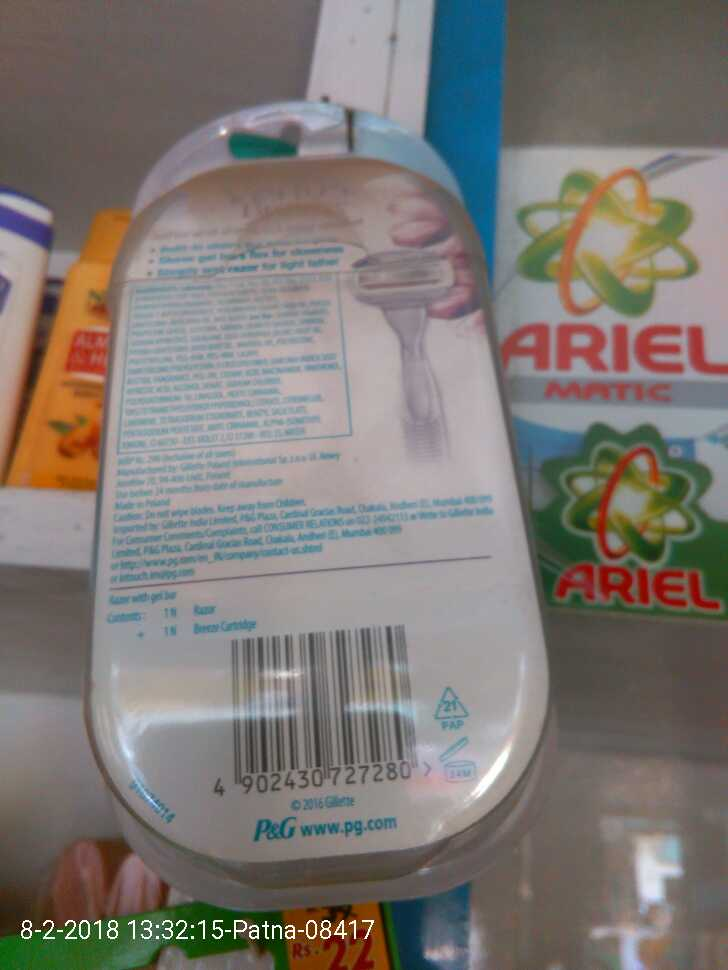ariel: (496, 152, 728, 604)
